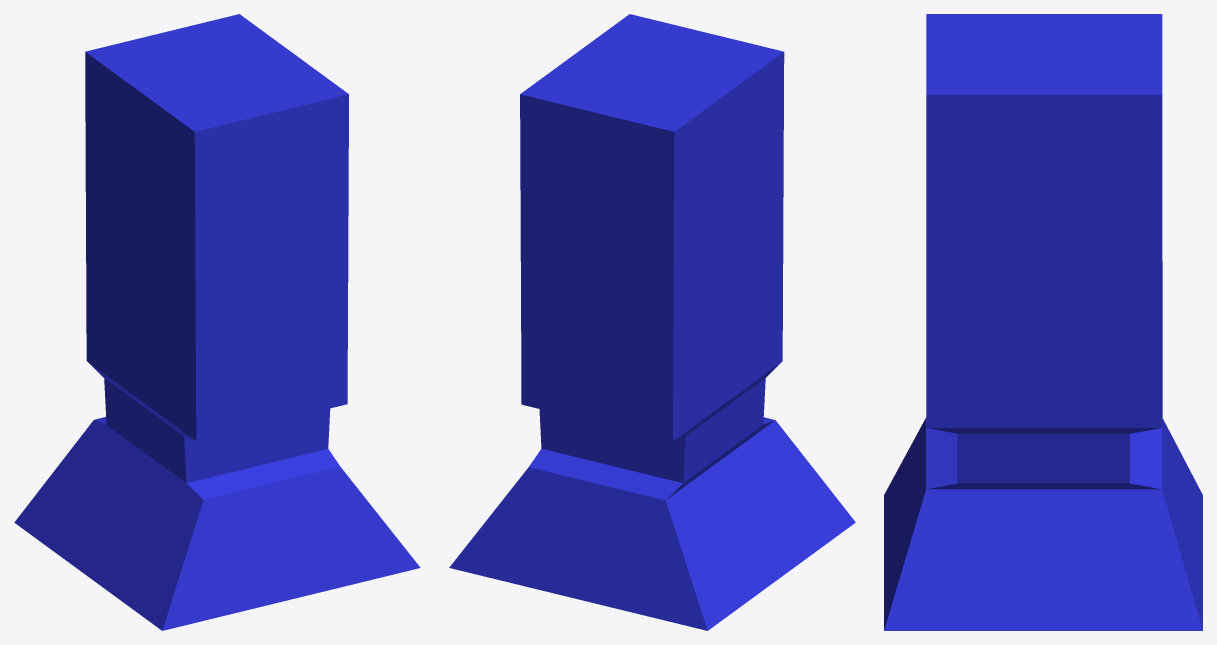
The model's file is Camera.fbx.
3 renders of one model, left to right at view 1: azimuth 30°, elevation 25°; view 2: azimuth 150°, elevation 25°; view 3: azimuth 270°, elevation 25°, orthographic. The views are drawn at different scales.
Parts seen in each view (by area): view 1: Camera; view 2: Camera; view 3: Camera.
Part boxes in pixels (box(x1,y1,x2,y2)): Camera: box(14, 14, 420, 630); Camera: box(449, 14, 855, 630); Camera: box(884, 14, 1202, 630).
Bounding box in the file's own units: 213 × 371 × 211.
